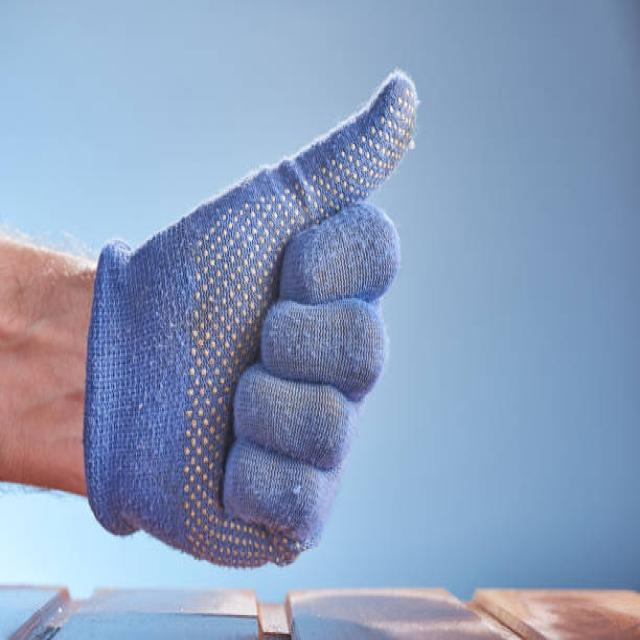Gloves: (80, 64, 422, 570)
